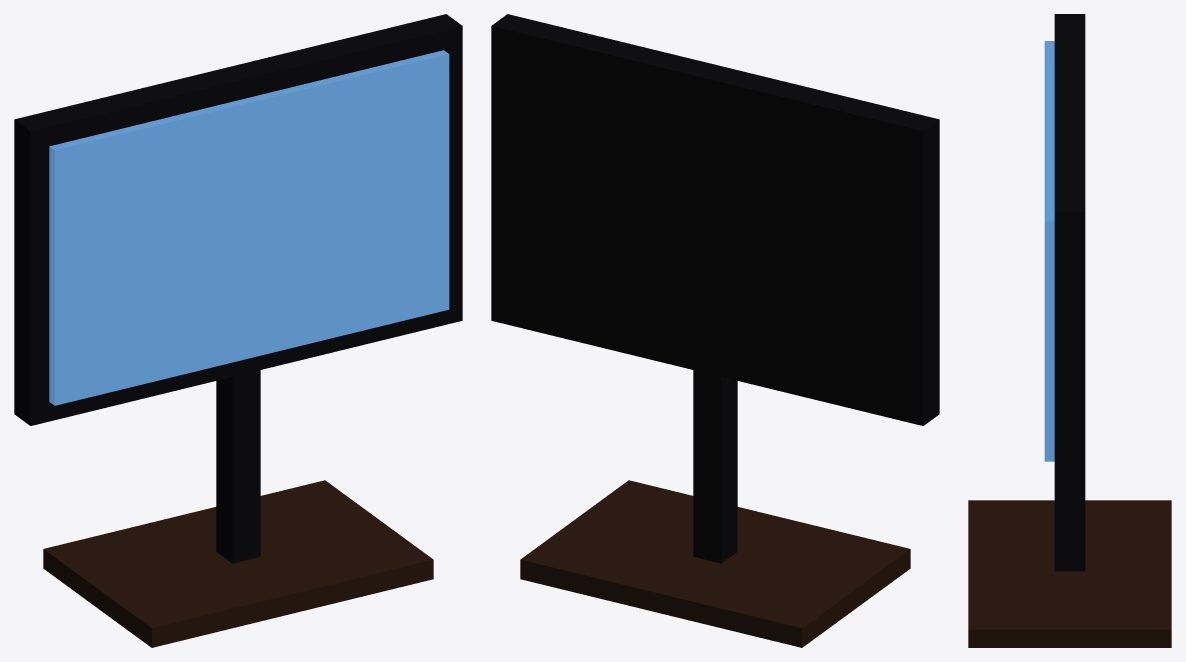
The model's file is welt_bildschirm.glb.
3 views of the same model, side by side, from view 1: azimuth 30°, elevation 25°; view 2: azimuth 150°, elevation 25°; view 3: azimuth 270°, elevation 25° (orthographic). The views are drawn at different scales.
Visible parts, largest first — view 1: glas, rahmen, fuss, stange; view 2: rahmen, fuss, stange; view 3: fuss, rahmen, glas, stange.
Boxes of the visible parts, x1,y1,x2,y2 form: glas: (49, 50, 449, 405); rahmen: (14, 14, 462, 425); fuss: (43, 480, 433, 647); stange: (216, 355, 260, 563); rahmen: (491, 14, 939, 425); fuss: (520, 480, 910, 647); stange: (693, 275, 737, 563); fuss: (968, 500, 1171, 647); rahmen: (1054, 14, 1085, 488); glas: (1044, 41, 1054, 461); stange: (1054, 488, 1085, 571).
Bounding box in the file's own units: 0.46 × 0.51 × 0.2.
